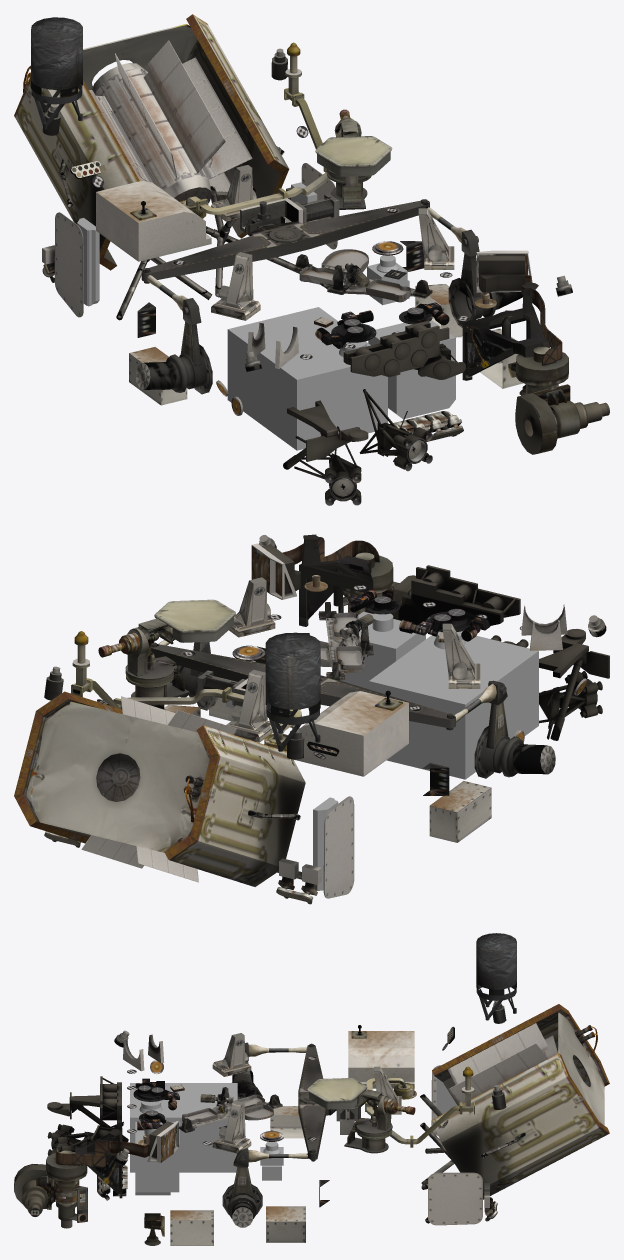
The model's file is MSL_dirty_mod_chassis_stuff_joint_fixed_v2.dae.
3 renders of one model, top to bottom at view 1: azimuth 30°, elevation 25°; view 2: azimuth 150°, elevation 25°; view 3: azimuth 270°, elevation 25°, orthographic. The views are drawn at different scales.
Parts seen in each view (by area): view 1: CheMin; view 2: CheMin; view 3: CheMin.
Boxes of the visible parts, x1,y1,x2,y2 form: CheMin: (14,14,609,505); CheMin: (14,534,609,904); CheMin: (14,933,609,1245).
Size of the model in its own units: 1.74 by 3.04 by 1.19.
Materials: 7 (6 with a texture image).
